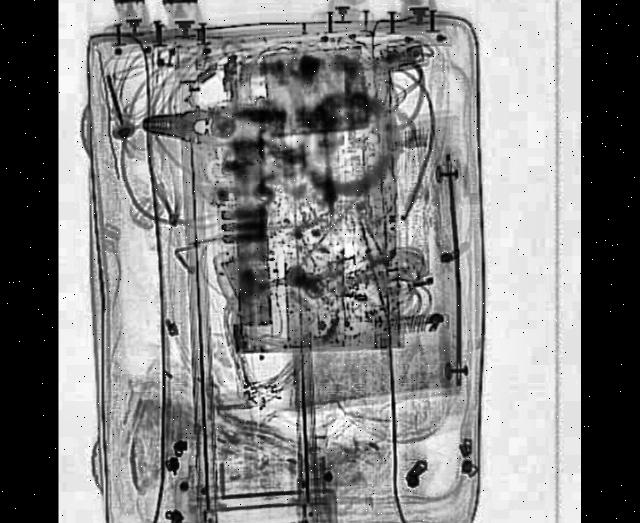Pliers: (144, 104, 279, 143)
